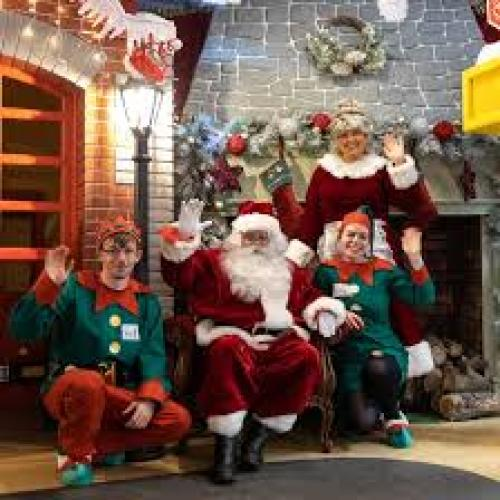Santa: (160, 197, 346, 485)
